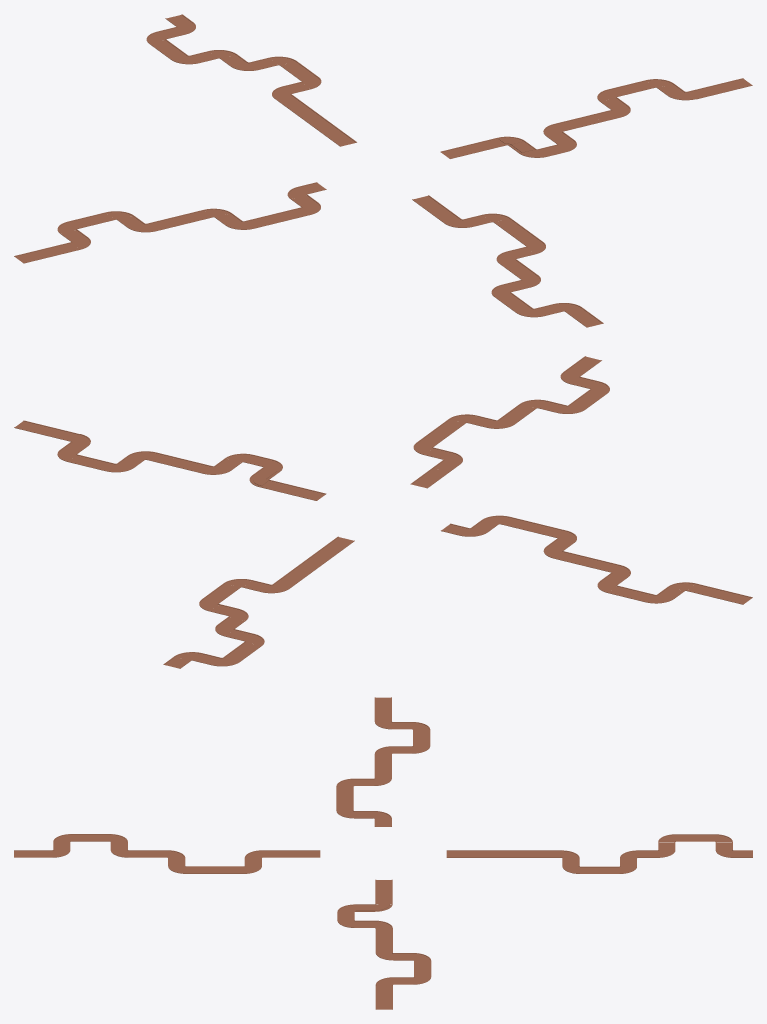
File: route.glb
3 renders of one model, top to bottom at view 1: azimuth 30°, elevation 25°; view 2: azimuth 150°, elevation 25°; view 3: azimuth 270°, elevation 25°, orthographic. The views are drawn at different scales.
Bounding box in the file's own units: 77.07 × 0.0817 × 77.19.
